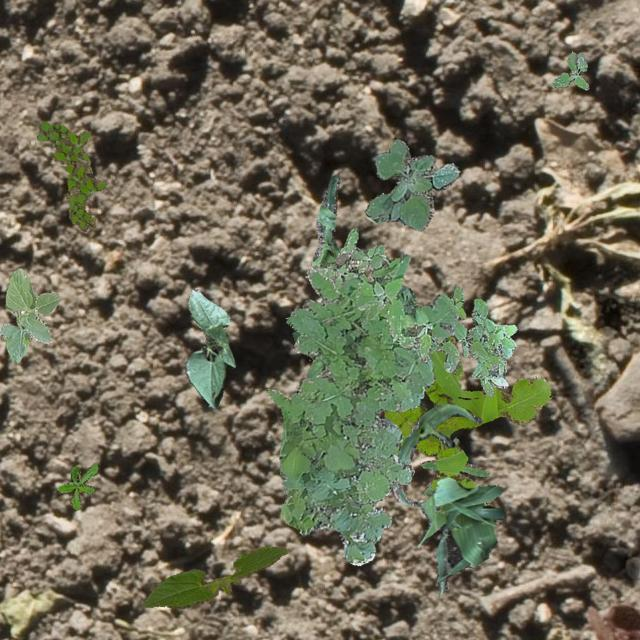crop: (417, 476, 502, 594), (391, 402, 482, 506), (142, 546, 288, 608), (310, 173, 370, 284), (184, 287, 234, 408), (0, 268, 60, 362)
weed: (266, 264, 458, 564), (383, 334, 550, 490), (318, 228, 430, 362), (426, 284, 516, 394), (364, 138, 458, 230), (36, 120, 106, 230), (421, 436, 488, 494), (56, 462, 98, 508), (292, 330, 322, 378), (550, 51, 588, 88)
